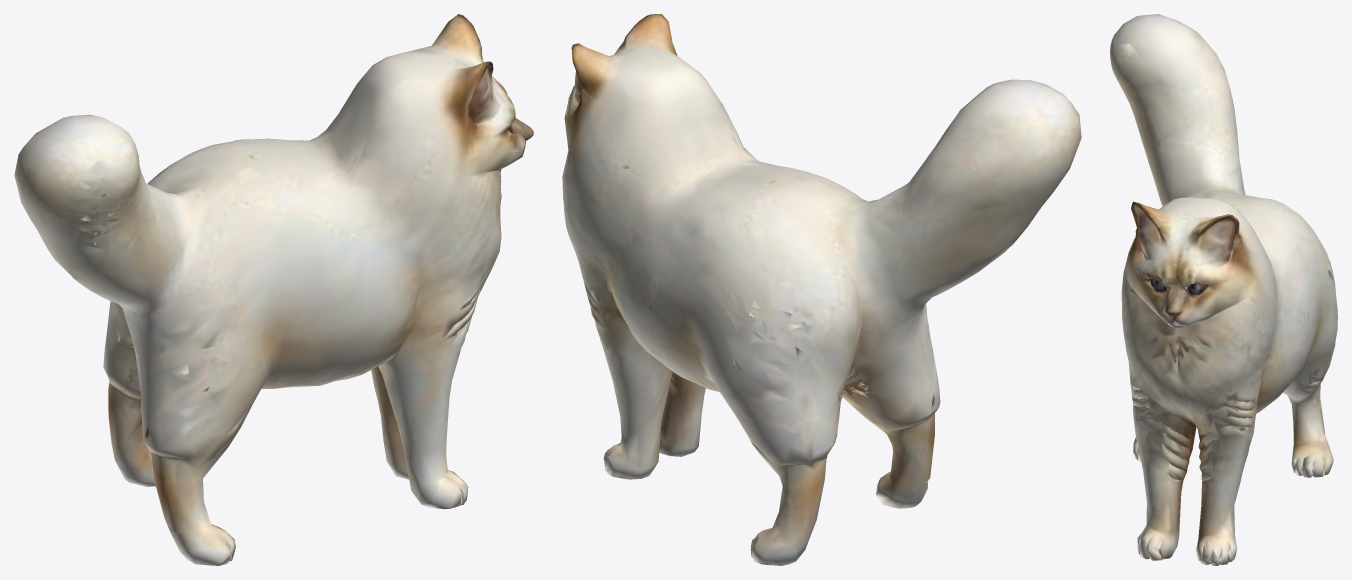
File: CHOUPETCAT-lo.glb
The picture shows the model from 3 angles, left to right: view 1: azimuth 30°, elevation 25°; view 2: azimuth 150°, elevation 25°; view 3: azimuth 270°, elevation 25°; orthographic projection. The views are drawn at different scales.
Visible parts, largest first — view 1: fit; view 2: fit; view 3: fit.
Part boxes in pixels (x1,y1,x2,y2): fit: (14,14,533,565); fit: (562,14,1081,565); fit: (1110,14,1337,565).
Bounding box in the file's own units: 1.15 × 0.9975 × 0.5325.
Materials: 1 (1 with a texture image).
